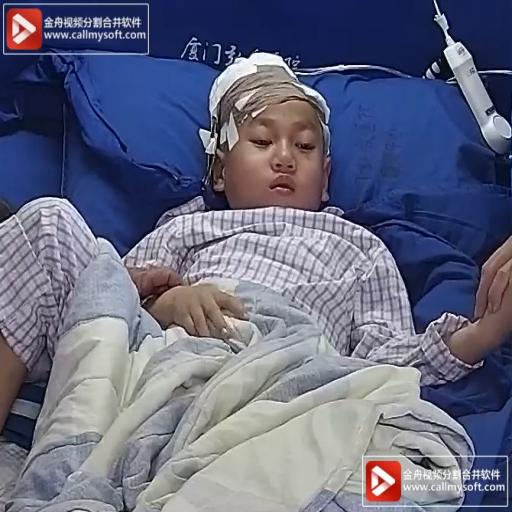Seizure: (206, 61, 342, 218)
